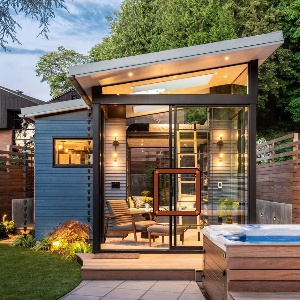square: (151, 167, 203, 217)
